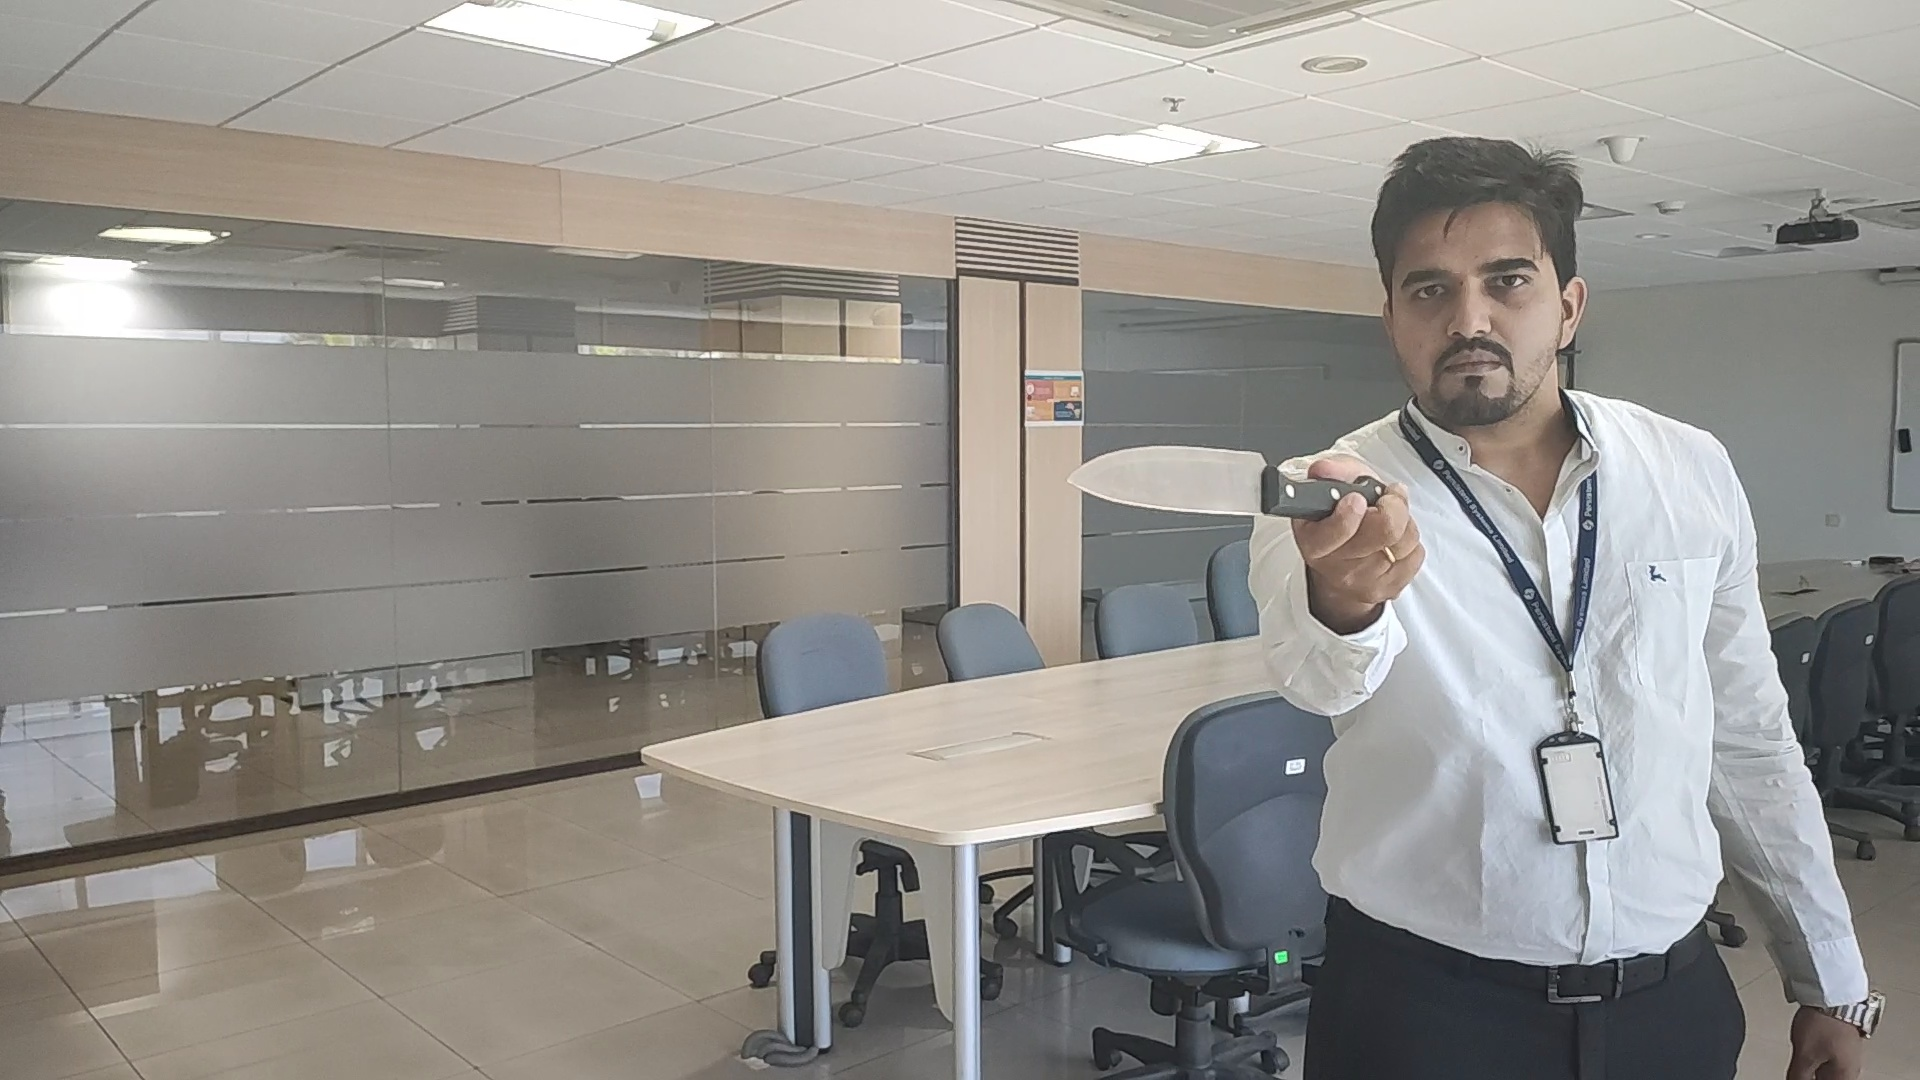knife: (1065, 446, 1338, 520)
